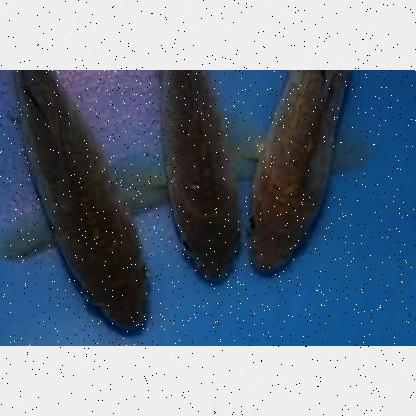ikan-mas: (0, 68, 154, 327), (244, 70, 362, 282), (148, 68, 240, 288)
